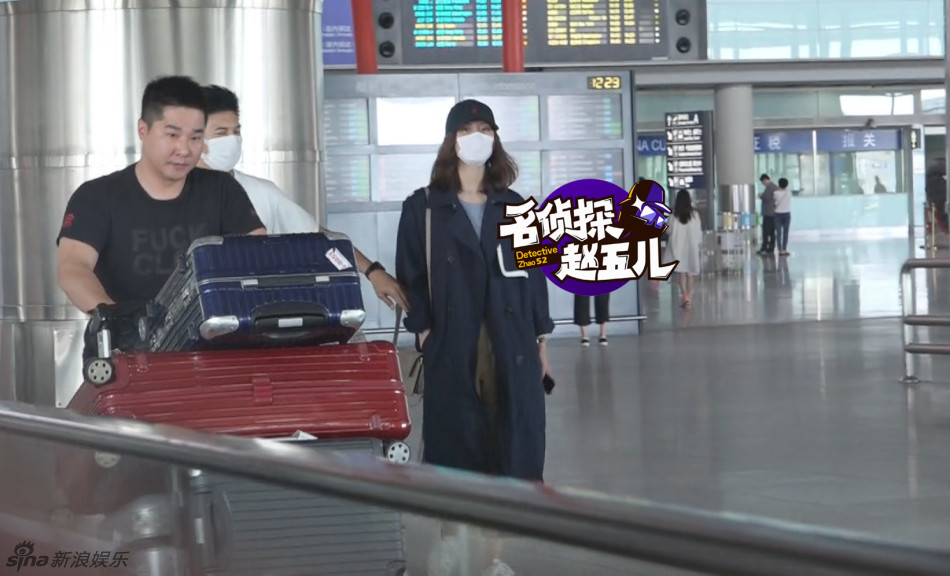face: (149, 107, 206, 178)
face_mask: (207, 113, 245, 175), (456, 118, 495, 166)
